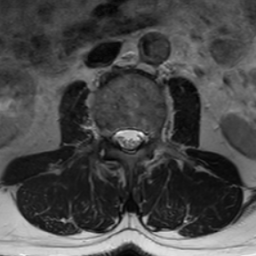CCS_normal: (123, 119, 133, 162)
LFS_stenosis: (144, 123, 156, 151)
LLS_normal: (133, 121, 144, 155)
RFS_normal: (102, 119, 113, 150)
RLS_normal: (113, 122, 123, 152)
